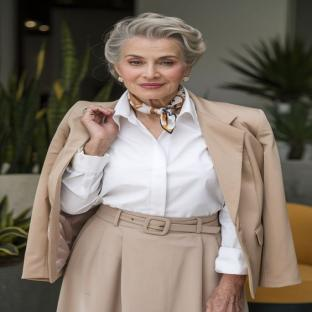Human: (23, 13, 300, 312)
